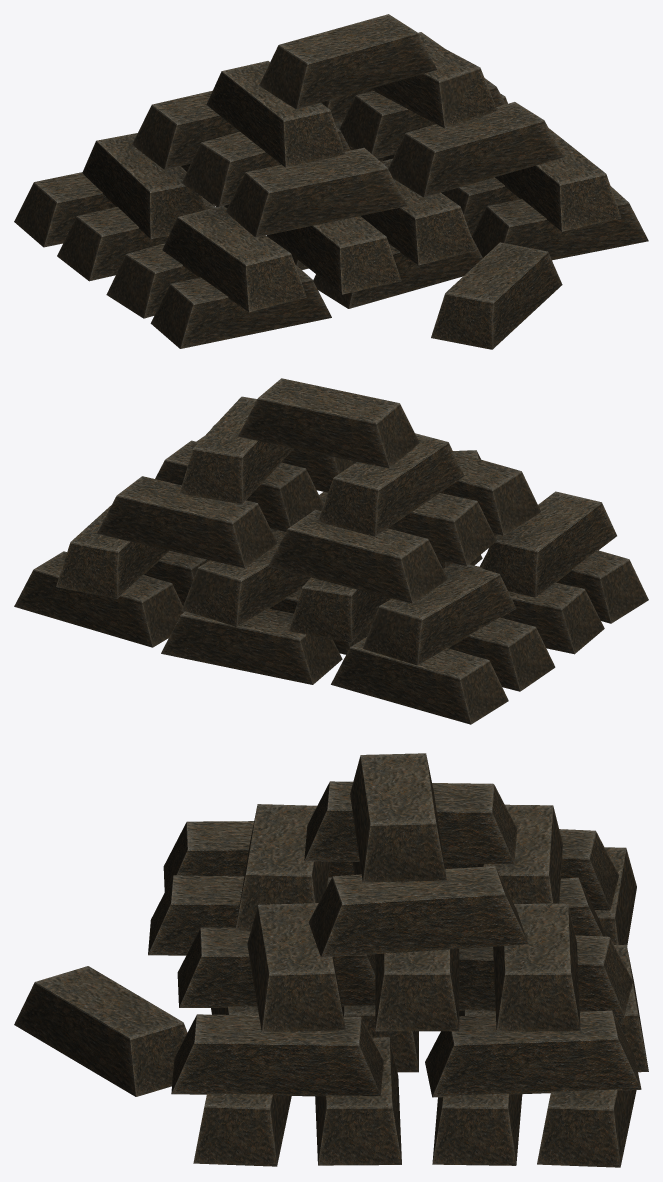
The model's file is mm9_deco_ironingots.glb.
3 renders of one model, top to bottom at view 1: azimuth 30°, elevation 25°; view 2: azimuth 150°, elevation 25°; view 3: azimuth 270°, elevation 25°, orthographic. The views are drawn at different scales.
Visible parts, largest first — view 1: Ironingots; view 2: Ironingots; view 3: Ironingots.
Boxes of the visible parts, x1,y1,x2,y2 form: Ironingots: [14, 14, 648, 349]; Ironingots: [14, 378, 648, 724]; Ironingots: [14, 753, 648, 1167].
Size of the model in its own units: 1.5 by 0.5985 by 1.42.
Materials: 2 (2 with a texture image).
